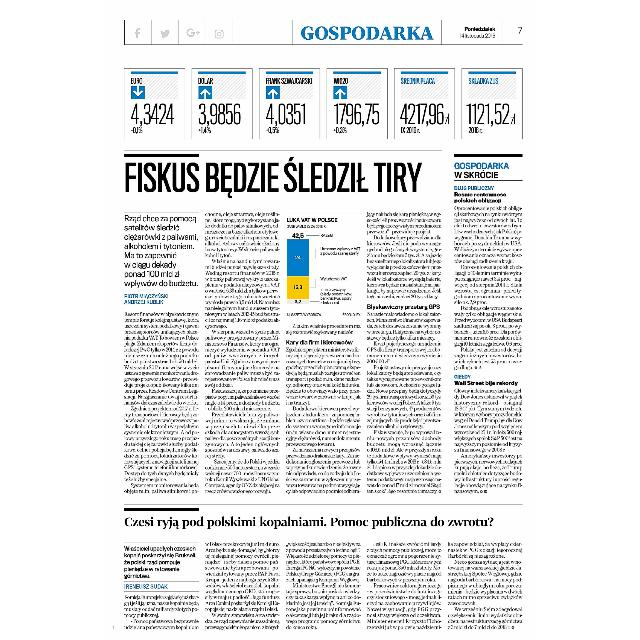article: (123, 152, 445, 500), (121, 506, 534, 636), (452, 152, 526, 498)
